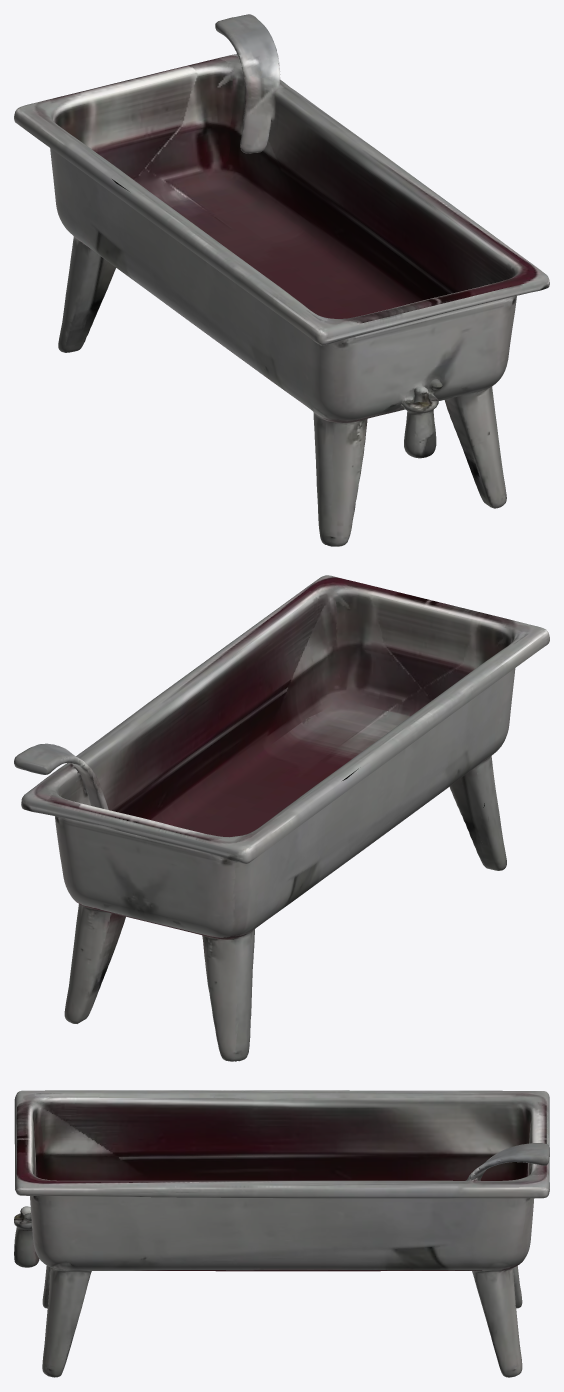
File: bleeding-trough.glb
The picture shows the model from 3 angles, top to bottom: view 1: azimuth 30°, elevation 25°; view 2: azimuth 150°, elevation 25°; view 3: azimuth 270°, elevation 25°; orthographic projection. The views are drawn at different scales.
Visible parts, largest first — view 1: cowninja-bleeding-trough; view 2: cowninja-bleeding-trough; view 3: cowninja-bleeding-trough.
Part boxes in pixels (box(x1,y1,x2,y2)): cowninja-bleeding-trough: box(14, 14, 549, 546); cowninja-bleeding-trough: box(14, 575, 549, 1061); cowninja-bleeding-trough: box(14, 1090, 549, 1377).
Size of the model in its own units: 1.11 by 1.21 by 2.5.
Materials: 1 (1 with a texture image).
